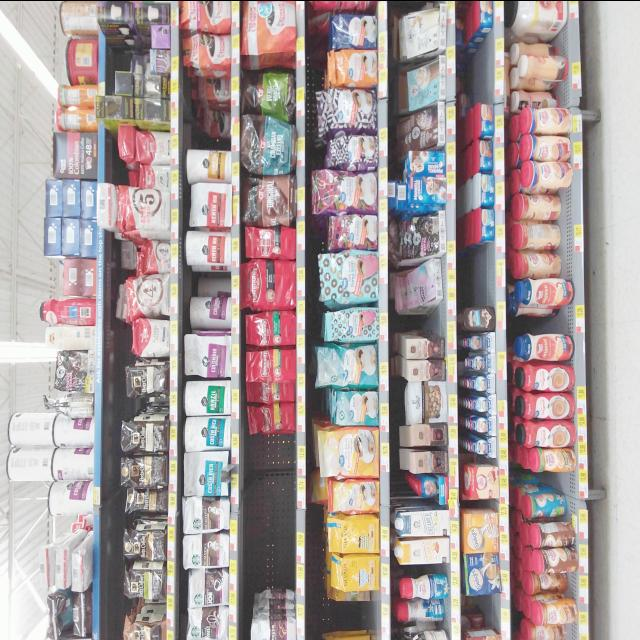empty_space: (251, 446, 292, 578), (463, 30, 489, 95), (463, 247, 494, 295), (319, 605, 370, 628), (189, 105, 227, 135), (465, 596, 498, 624)
